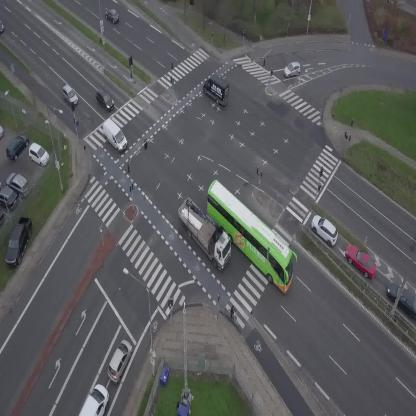bicycle: (226, 305, 238, 322)
bus: (191, 176, 309, 295)
car: (340, 240, 382, 283), (102, 337, 137, 385), (306, 211, 344, 248), (79, 381, 115, 416), (92, 87, 118, 114), (57, 83, 81, 108), (102, 6, 123, 26), (282, 61, 302, 79)
lorry: (169, 192, 243, 273), (197, 72, 236, 108), (96, 117, 133, 153)
